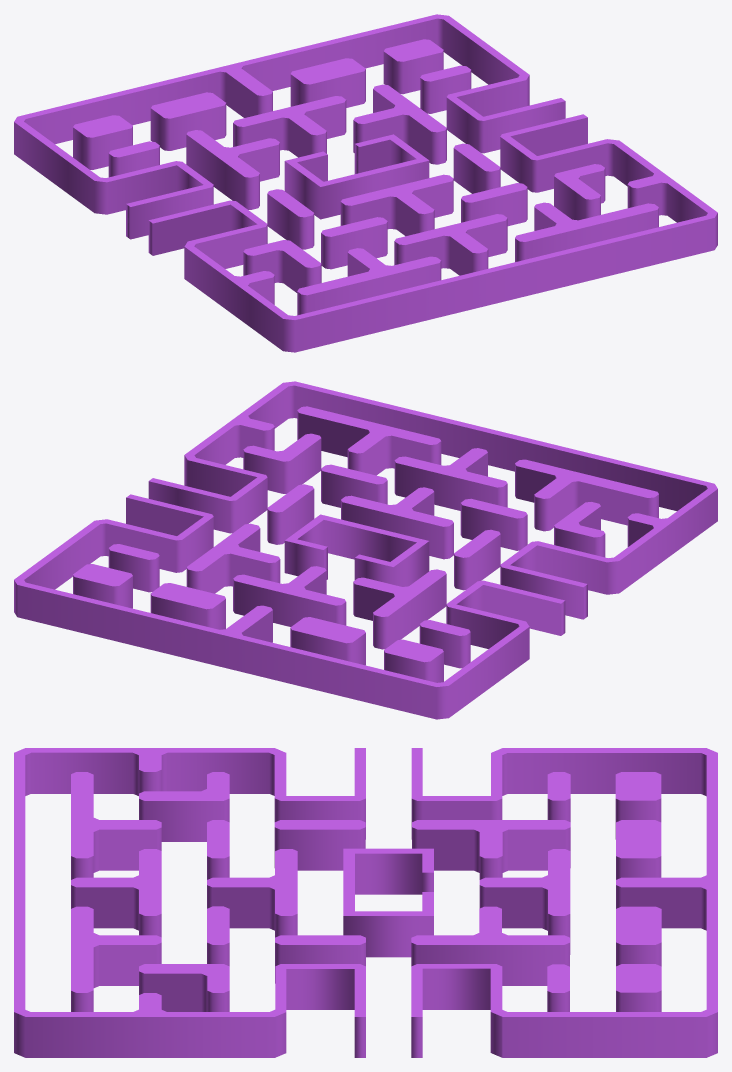
The model's file is maze.gltf.
3 renders of one model, top to bottom at view 1: azimuth 30°, elevation 25°; view 2: azimuth 150°, elevation 25°; view 3: azimuth 270°, elevation 25°, orthographic. The views are drawn at different scales.
Parts seen in each view (by area): view 1: Curve.000; view 2: Curve.000; view 3: Curve.000.
Boxes of the visible parts, x1,y1,x2,y2 form: Curve.000: (14,14,717,352); Curve.000: (14,381,717,719); Curve.000: (14,748,717,1057).
Size of the model in its own units: 14.45 by 1.03 by 16.
